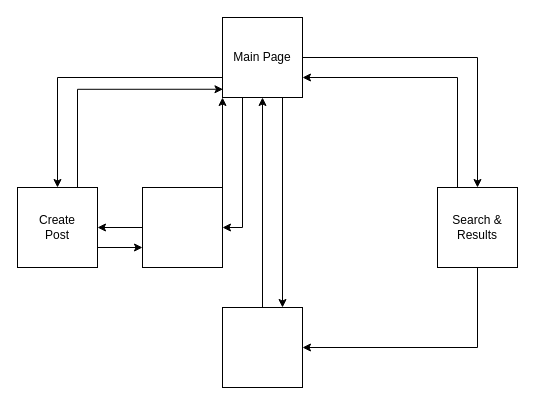
Image size: 535x405. Some labels were removed from this diagram. Here are the shapes that lost their labels. From the top down, the centre of each, then its label:
At pixel 182 227: "Account Page".
At pixel 262 347: "Blogs".
